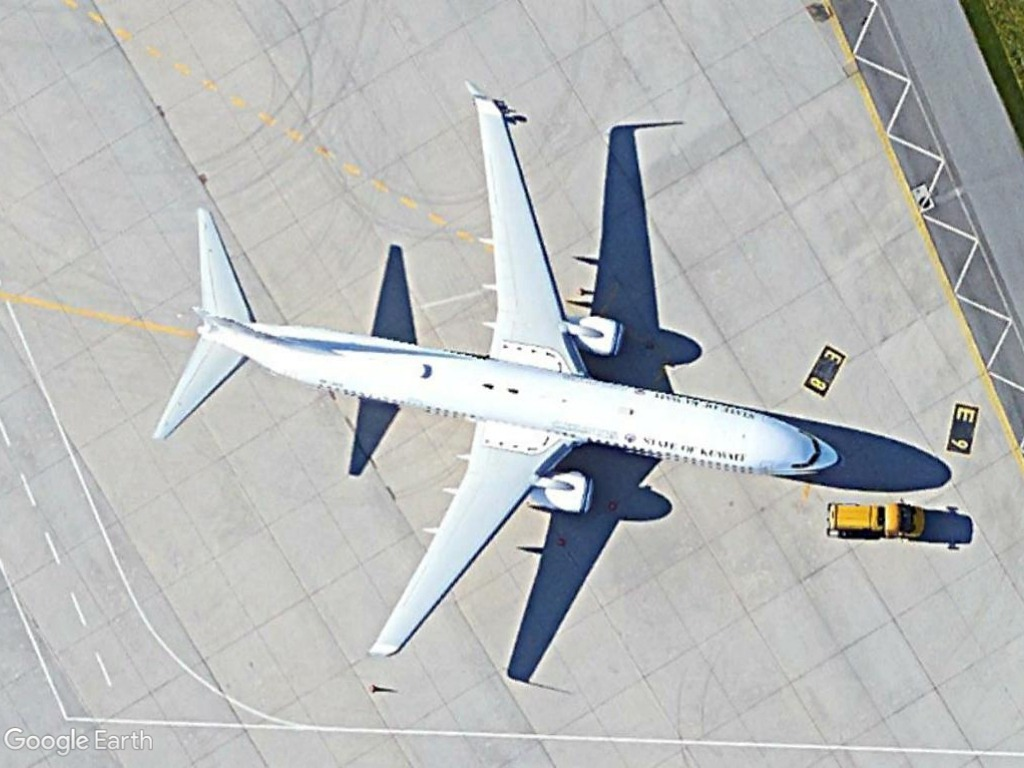airliner: (148, 76, 846, 672)
others: (820, 499, 929, 546)
